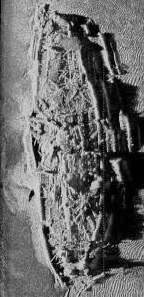ship: (21, 1, 136, 293)
